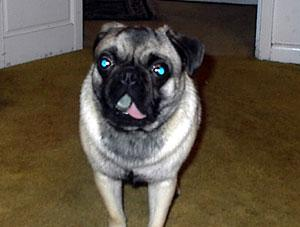dog-pug: (91, 19, 204, 125)
